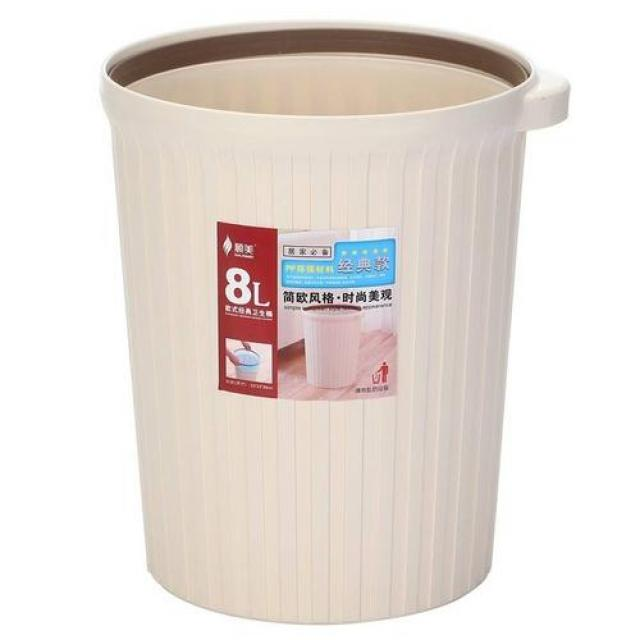Dustbin: (93, 15, 577, 630)
